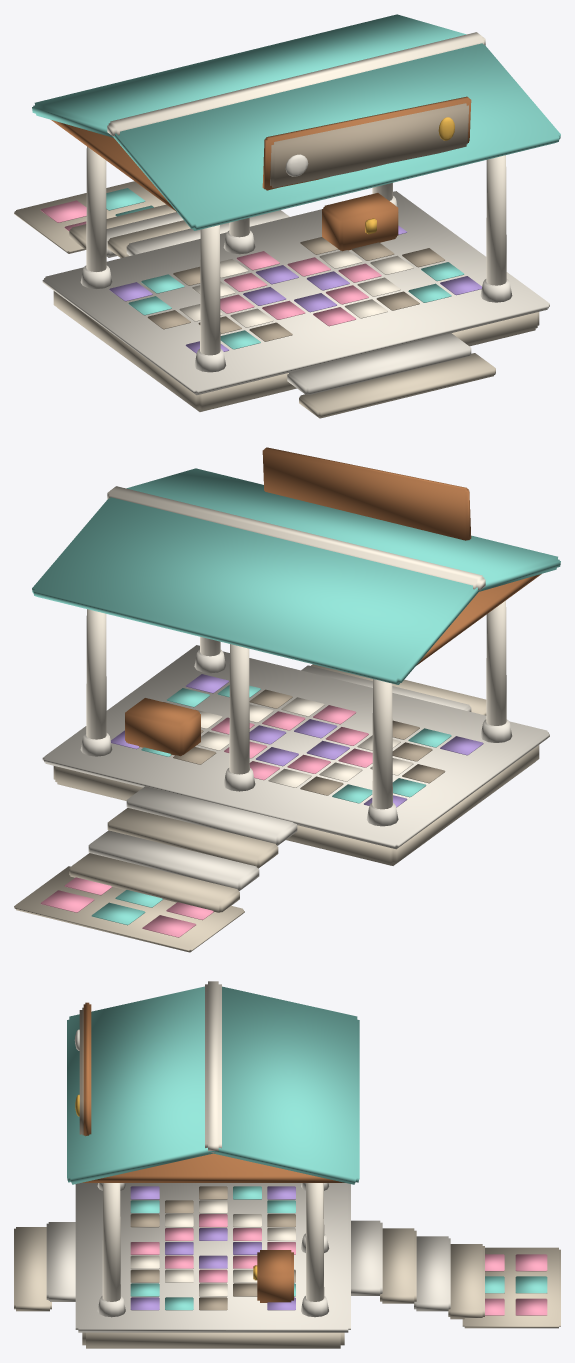
The model's file is PavilionBay.fbx.
3 views of the same model, one above another, from view 1: azimuth 30°, elevation 25°; view 2: azimuth 150°, elevation 25°; view 3: azimuth 270°, elevation 25° (orthographic). The views are drawn at different scales.
Visible parts, largest first — view 1: PavilionBay; view 2: PavilionBay; view 3: PavilionBay.
Boxes of the visible parts, <box> form: PavilionBay: <box>14,14,560,418</box>; PavilionBay: <box>14,447,560,952</box>; PavilionBay: <box>14,981,560,1348</box>.
Bounding box in the file's own units: 5.86 × 4.11 × 8.34.
